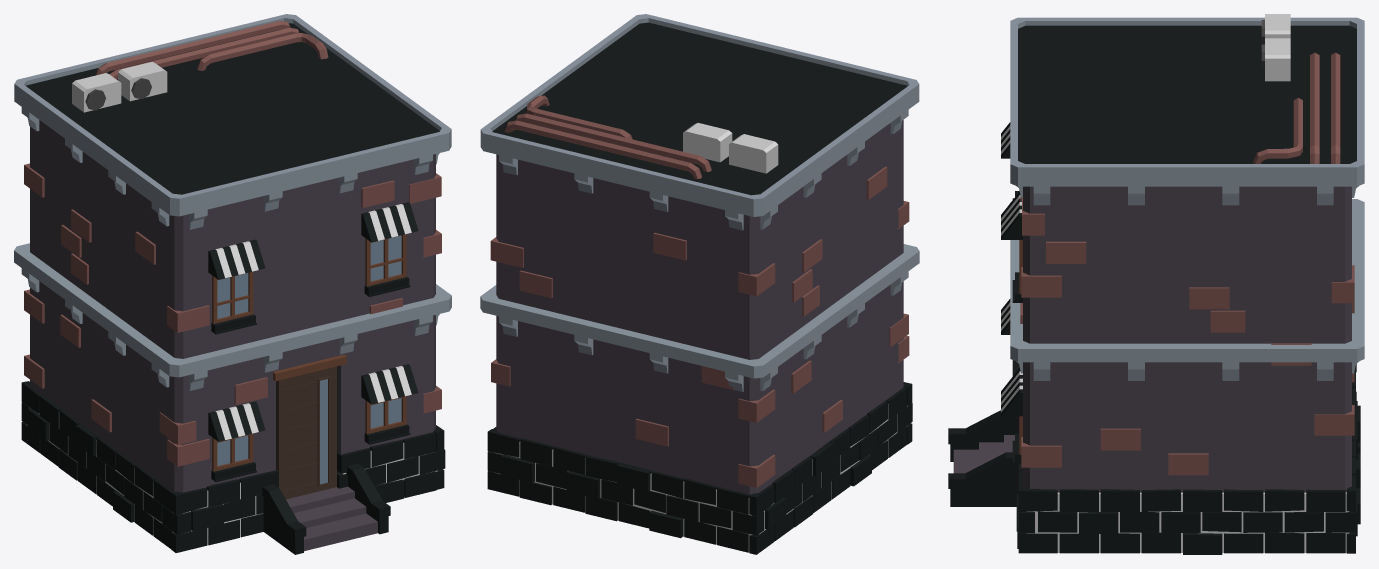
The model's file is LowPolyBuilding7.fbx.
The picture shows the model from 3 angles, left to right: view 1: azimuth 30°, elevation 25°; view 2: azimuth 150°, elevation 25°; view 3: azimuth 270°, elevation 25°; orthographic projection. The views are drawn at different scales.
Visible parts, largest first — view 1: 2Story_Mat; view 2: 2Story_Mat; view 3: 2Story_Mat.
Boxes of the visible parts, <box> form: 2Story_Mat: <box>14,14,451,554</box>; 2Story_Mat: <box>480,14,919,554</box>; 2Story_Mat: <box>948,14,1364,554</box>.
Bounding box in the file's own units: 216 × 275 × 253.
